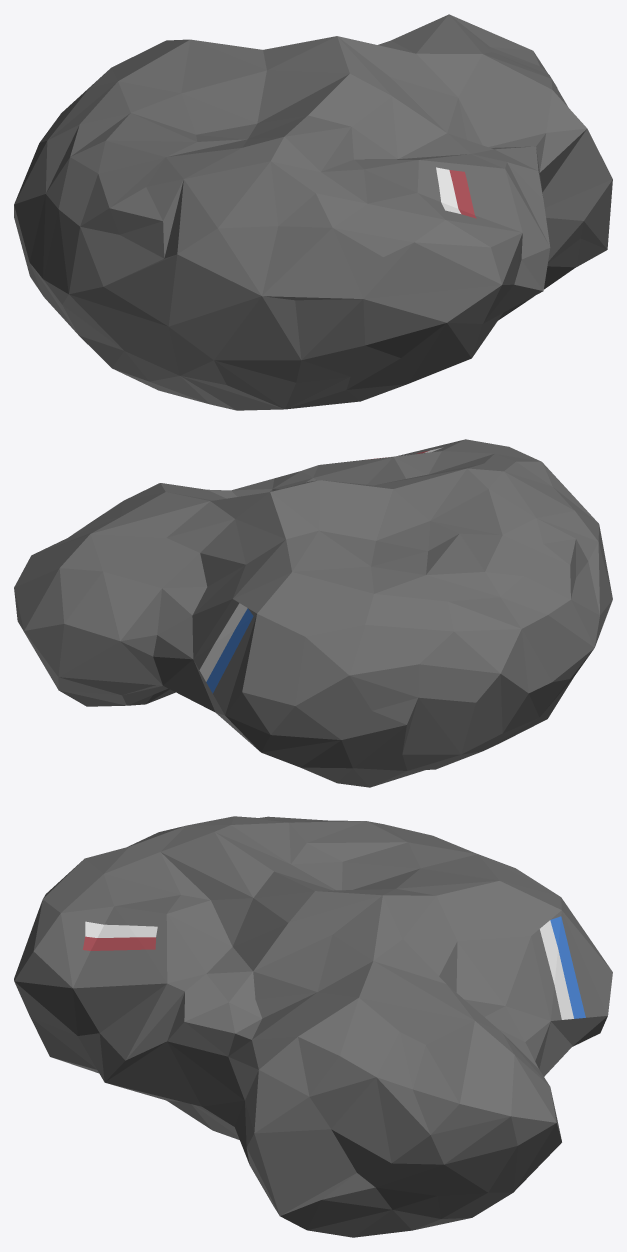
3 renders of one model, top to bottom at view 1: azimuth 30°, elevation 25°; view 2: azimuth 150°, elevation 25°; view 3: azimuth 270°, elevation 25°, orthographic. The views are drawn at different scales.
Visible parts, largest first — view 1: steine; view 2: steine; view 3: steine.
Boxes of the visible parts, x1,y1,x2,y2 form: steine: (14,14,612,410); steine: (14,439,612,787); steine: (14,816,612,1237).
Bounding box in the file's own units: 4.87 × 2.35 × 4.63.
Materials: 4 (1 with a texture image).
